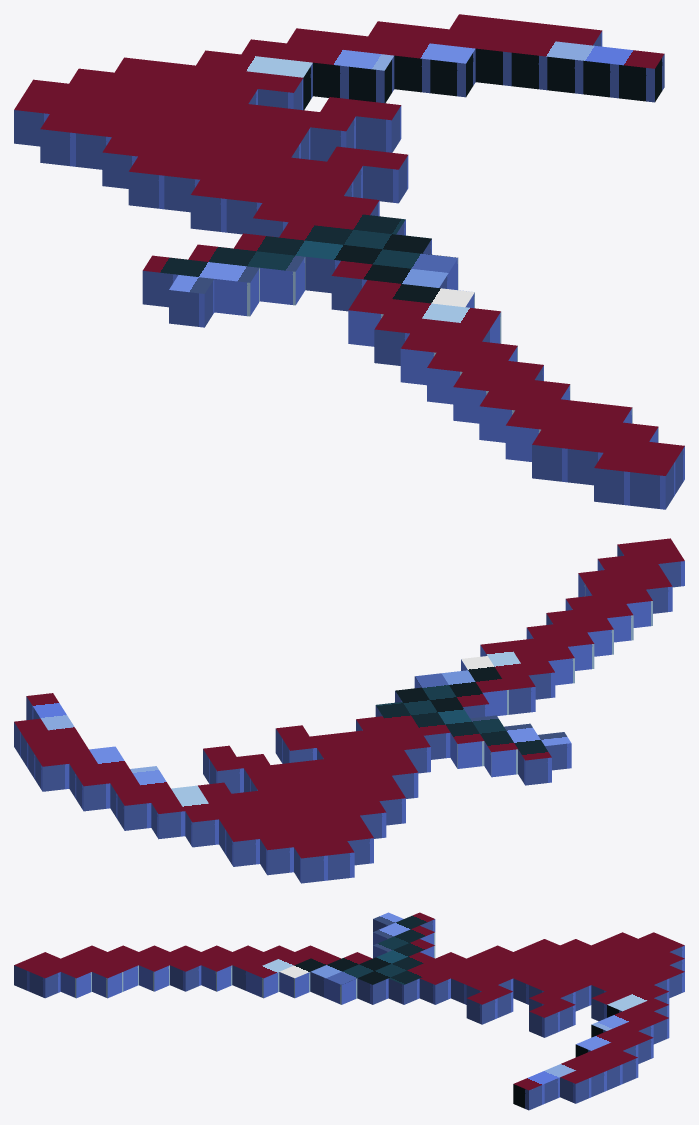
The model's file is SM_FrostScythe_Spooky2.glb.
3 views of the same model, one above another, from view 1: azimuth 30°, elevation 25°; view 2: azimuth 150°, elevation 25°; view 3: azimuth 270°, elevation 25° (orthographic). The views are drawn at different scales.
Parts seen in each view (by area): view 1: SM_FrostScythe_Spooky2.001; view 2: SM_FrostScythe_Spooky2.001; view 3: SM_FrostScythe_Spooky2.001.
Boxes of the visible parts, x1,y1,x2,y2 form: SM_FrostScythe_Spooky2.001: [14, 14, 684, 509]; SM_FrostScythe_Spooky2.001: [14, 538, 684, 883]; SM_FrostScythe_Spooky2.001: [14, 912, 684, 1110].
Size of the model in its own units: 119 by 6.25 by 190.
1 material, 1 textured.
